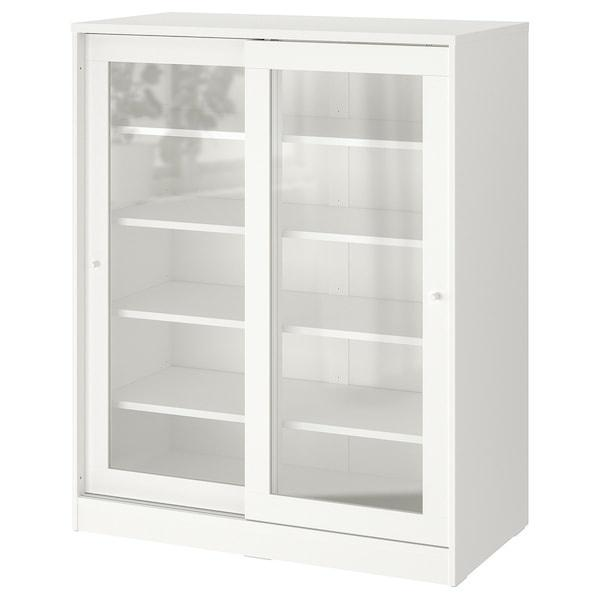cabinet_door: (256, 61, 450, 544), (81, 53, 254, 518)
handle: (428, 286, 445, 308), (88, 255, 105, 274)
